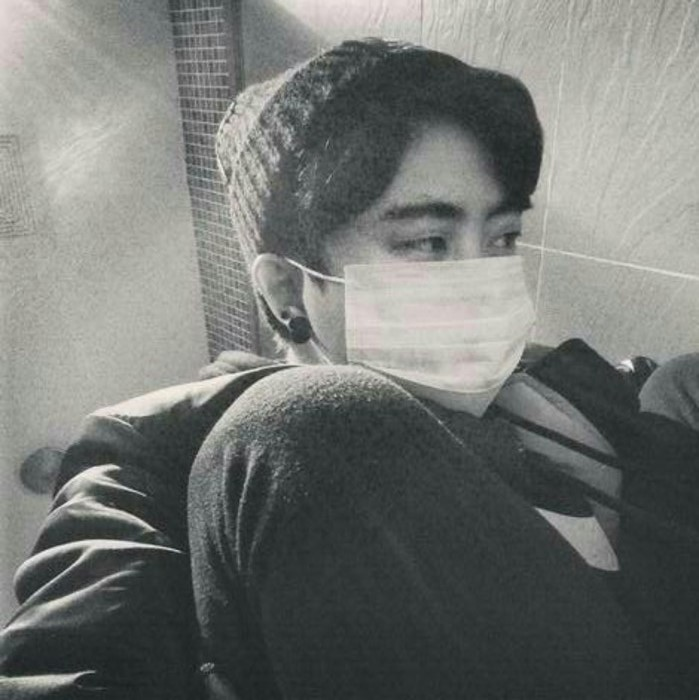face_mask: (325, 126, 530, 389)
